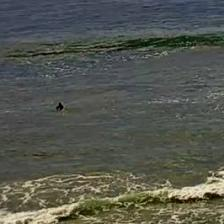surfer: (56, 102, 65, 111)
